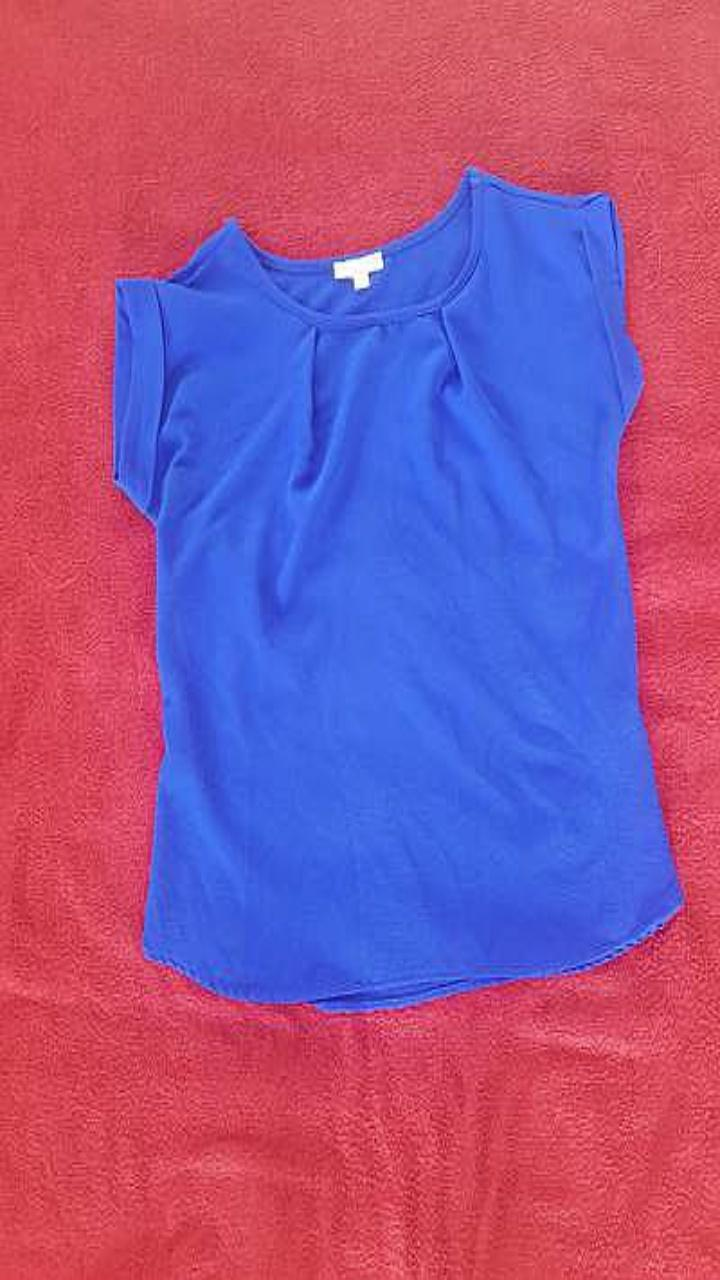T-Shirt: (113, 165, 682, 1010)
